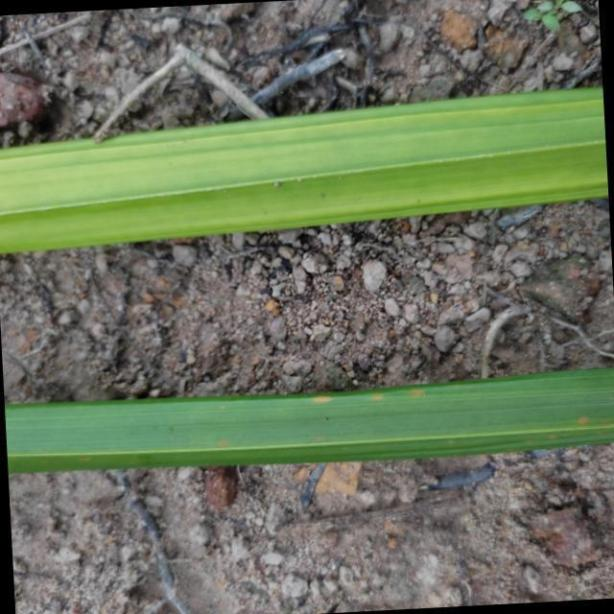nitrogen: (0, 88, 614, 254), (5, 364, 612, 476)
